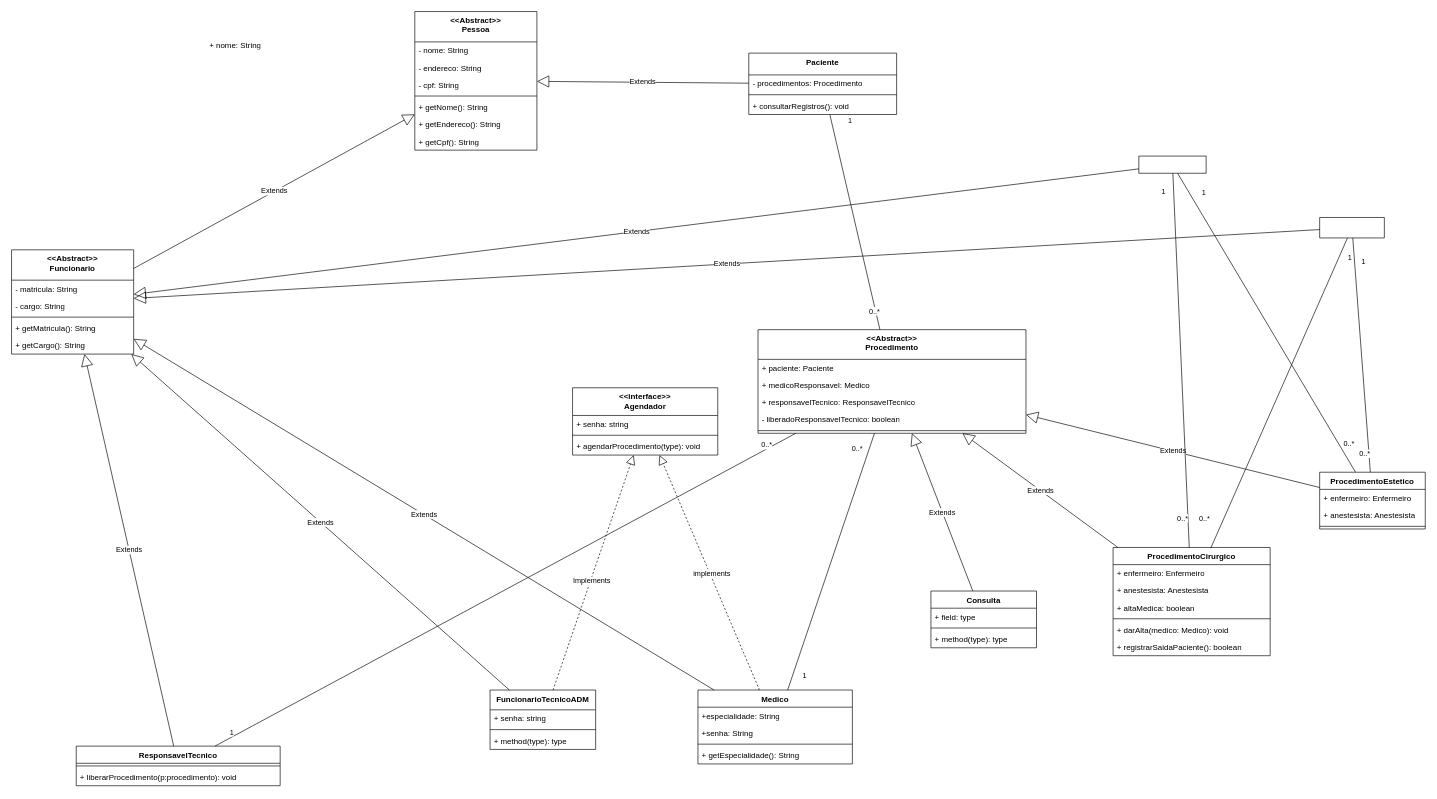
This 1437x799 diagram has some shape labels left out. The shapes that lost their labels are listed below. From the top down, each one's centre as x and y in pixels, then its label:
At pixel 1172 164: "Anestesista".
At pixel 1351 227: "Enfermeiro".
